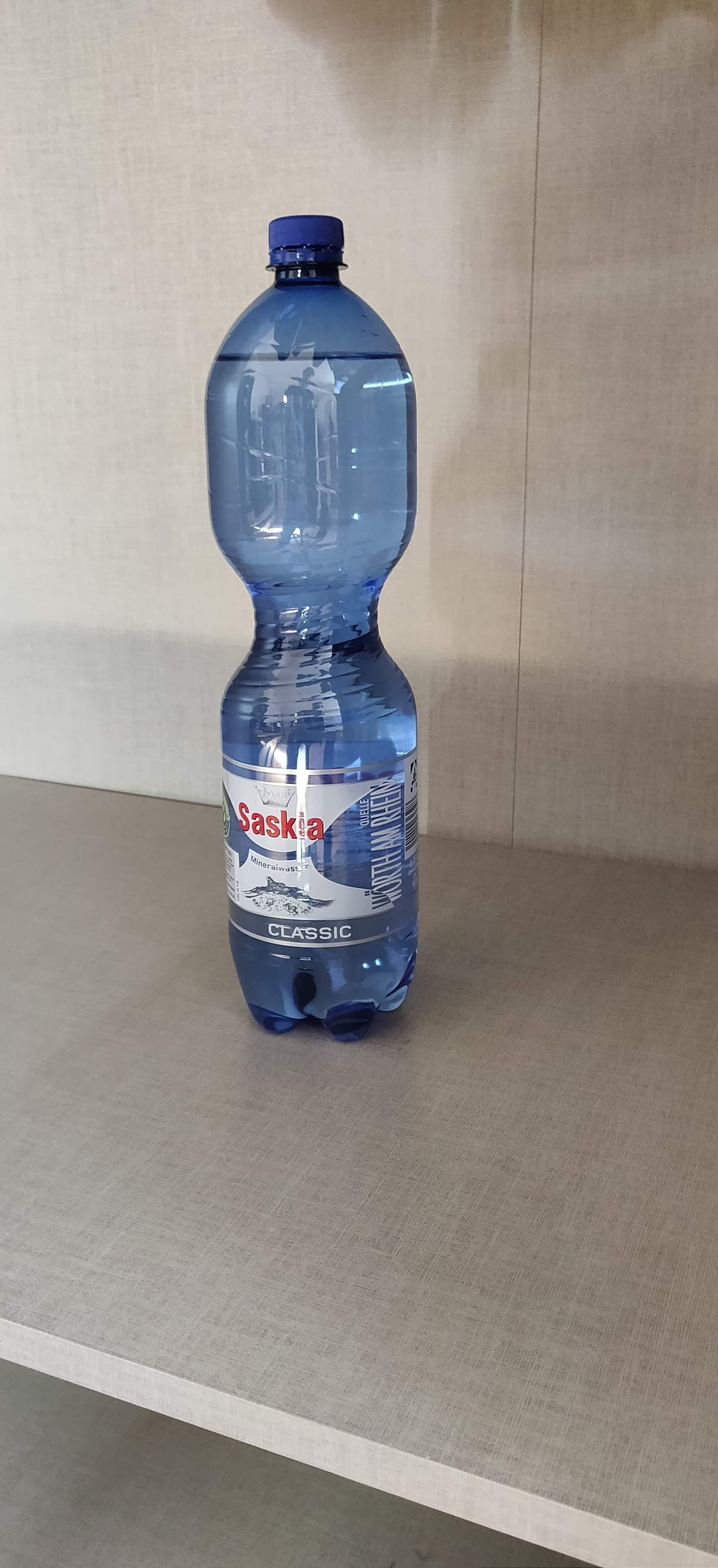bottle-plastic: (200, 205, 426, 1031)
